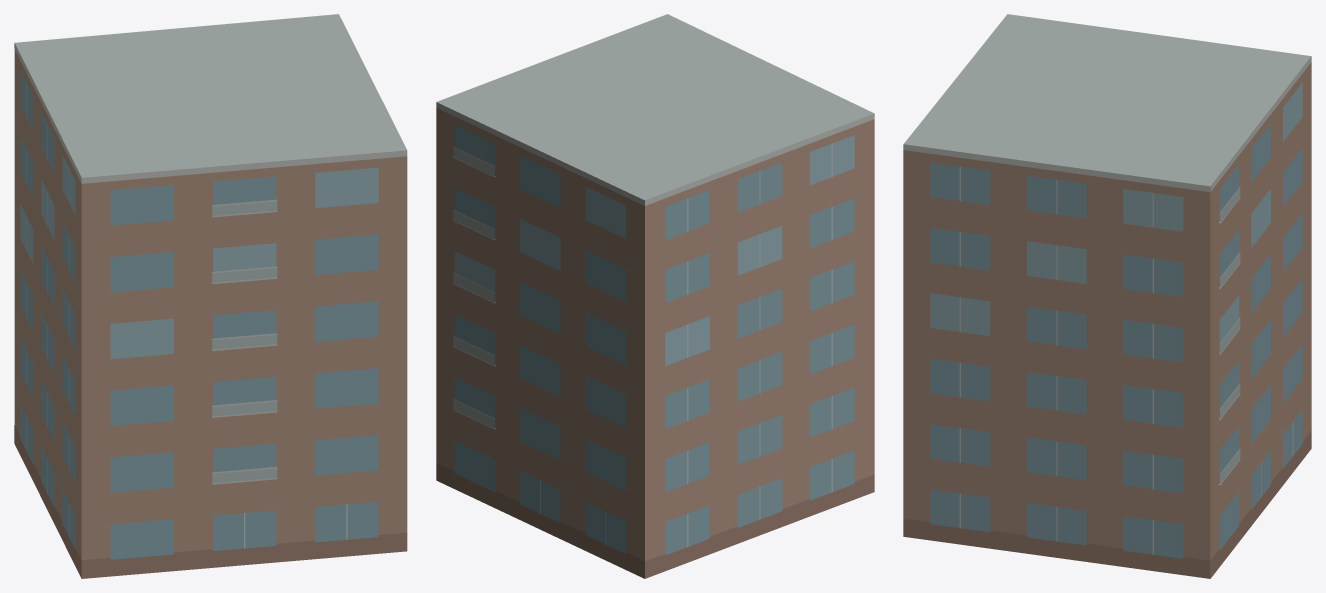
File: survey-upis-32709035.glb
3 renders of one model, left to right at view 1: azimuth 30°, elevation 25°; view 2: azimuth 150°, elevation 25°; view 3: azimuth 270°, elevation 25°, orthographic. The views are drawn at different scales.
Parts seen in each view (by area): view 1: survey-upis-32709035.tmp; view 2: survey-upis-32709035.tmp; view 3: survey-upis-32709035.tmp.
Boxes of the visible parts, x1=… form: survey-upis-32709035.tmp: x1=14, y1=14, x2=407, y2=578; survey-upis-32709035.tmp: x1=436, y1=14, x2=874, y2=578; survey-upis-32709035.tmp: x1=903, y1=14, x2=1311, y2=578.
Bounding box in the file's own units: 15.55 × 16.5 × 15.56.
